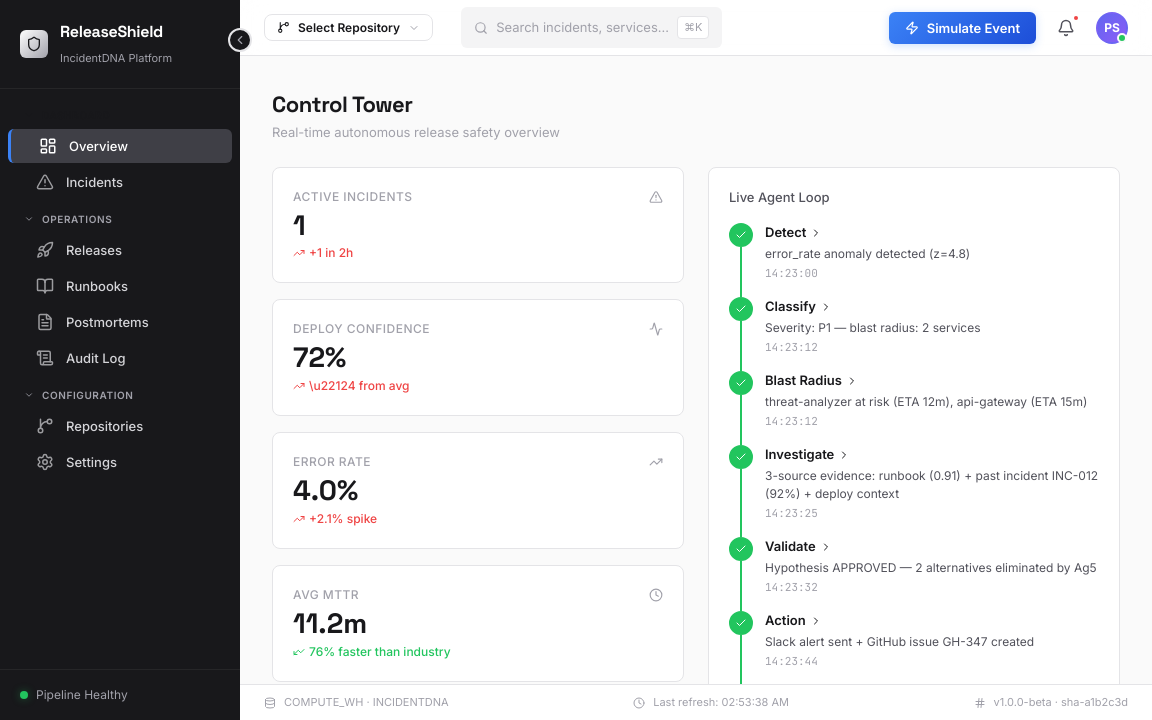
Test: Integration — Simulation Flow › Simulate Event button opens modal
Click the button with id "simulate-event-btn": (962, 28) [889,12,1036,44]
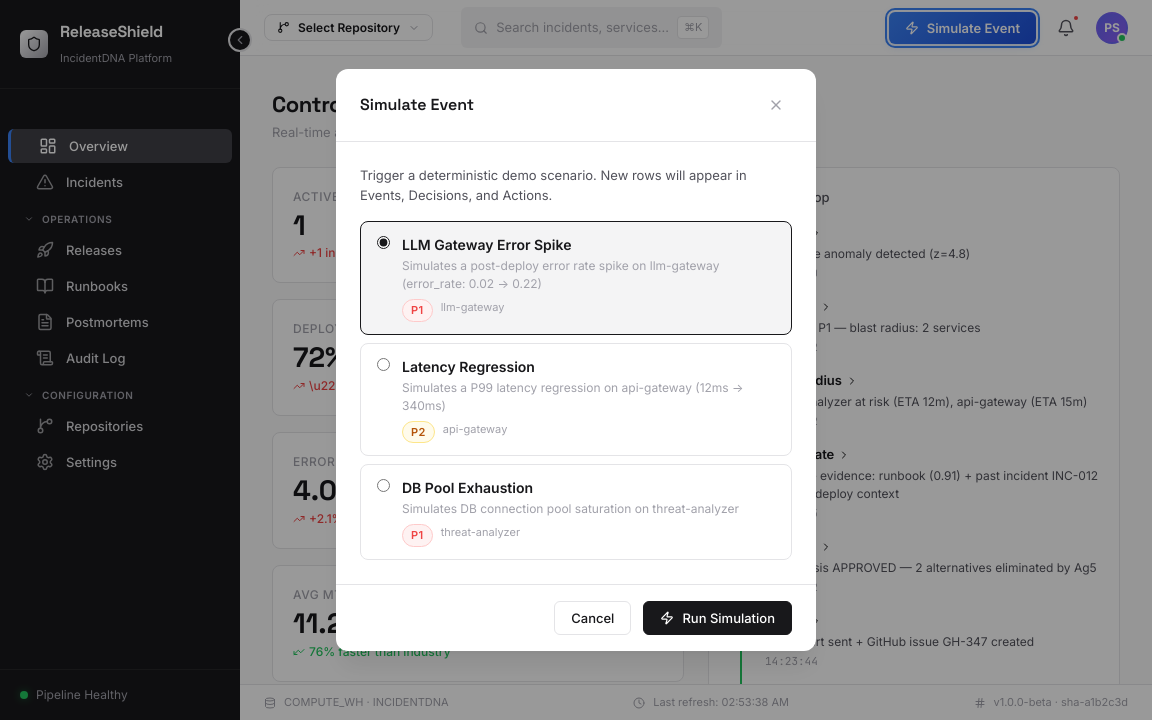
Expected: the element with id "simulation-modal" is shown
